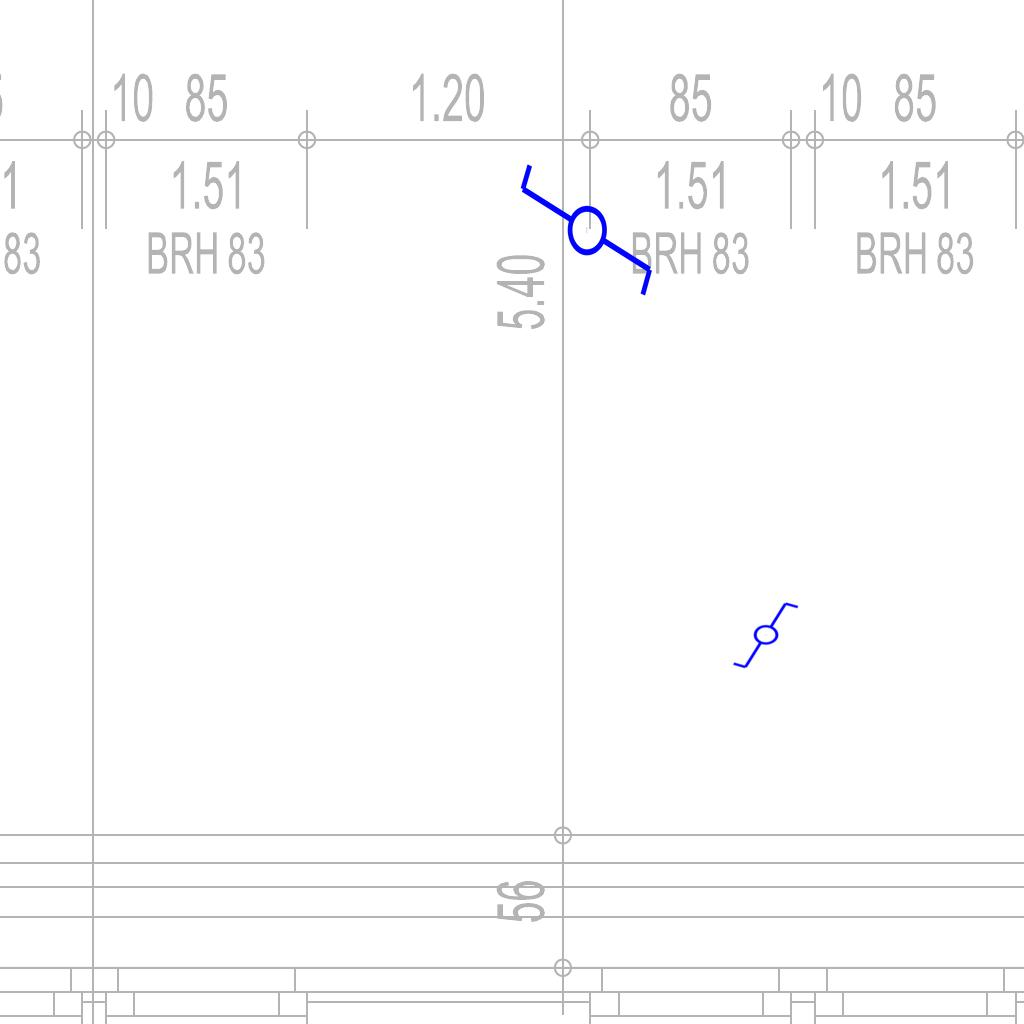Wechselschalter: (513, 160, 657, 317), (731, 600, 809, 672)
